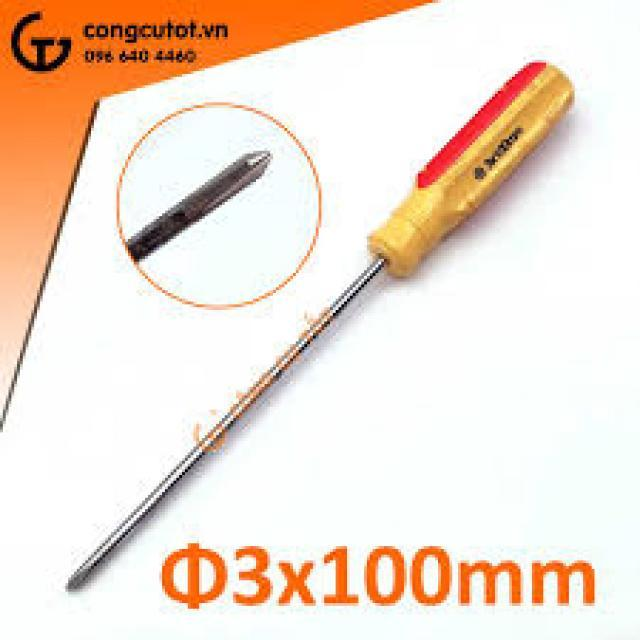screwdriver: (59, 58, 574, 596)
